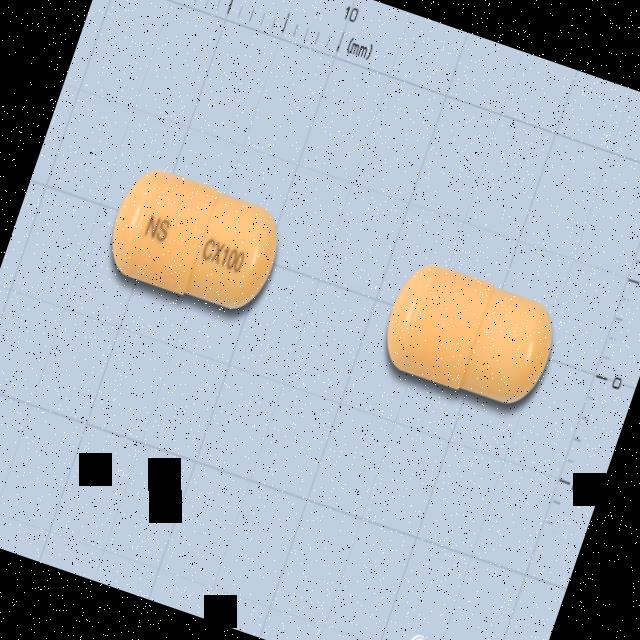Cefixime Cap- Nelson: (95, 154, 296, 330)
